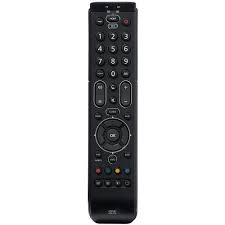remote control: (88, 5, 138, 223)
